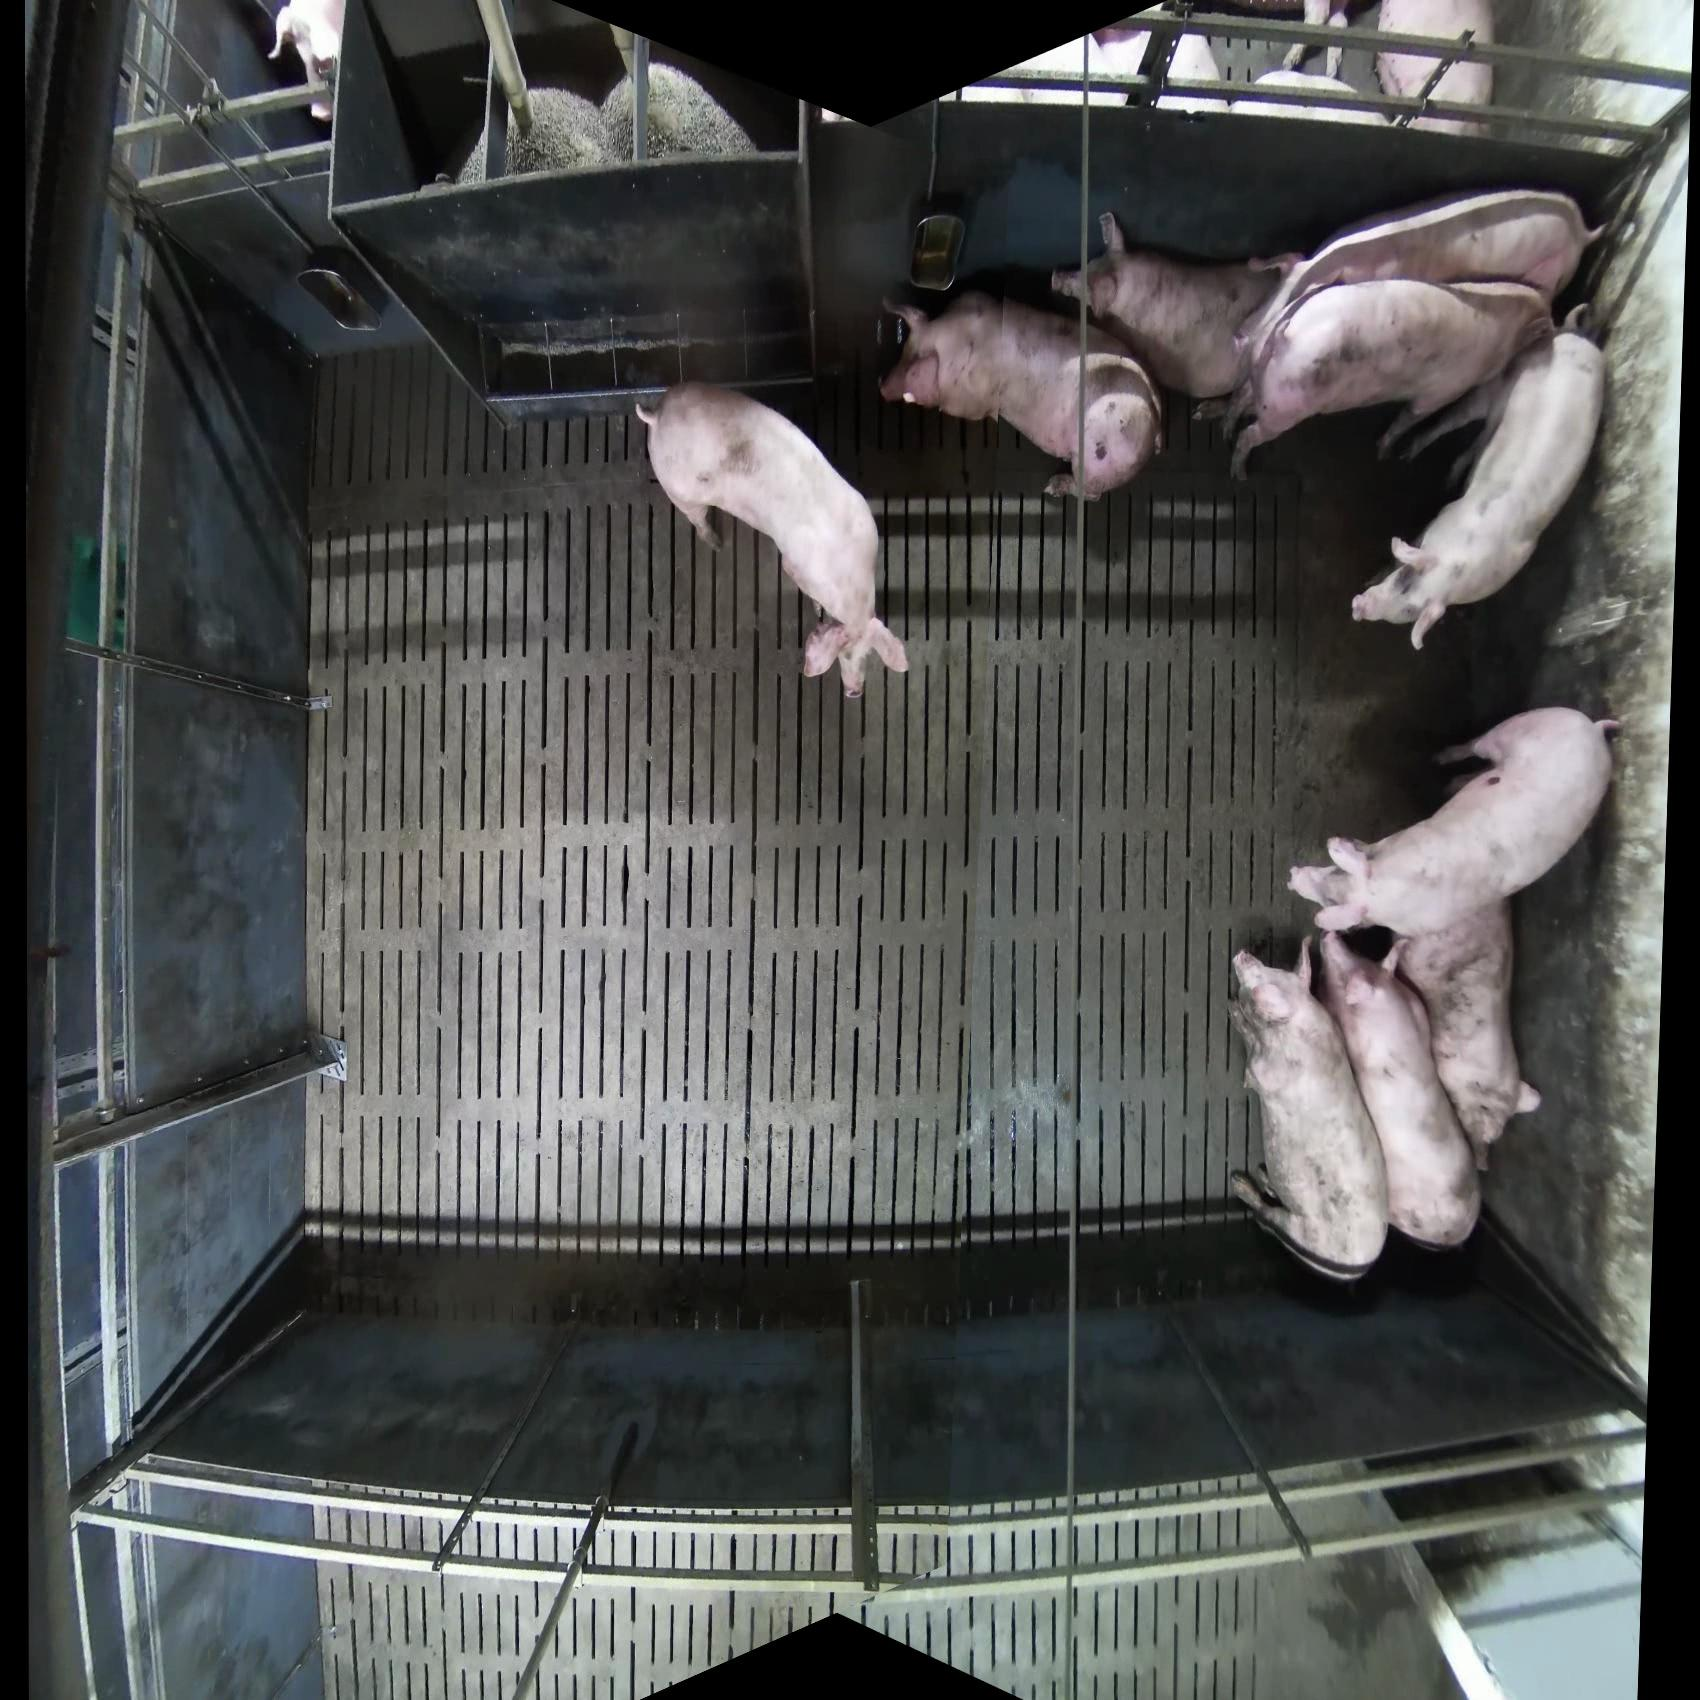pig: (632, 378, 911, 702), (1350, 324, 1610, 652), (1287, 704, 1625, 942), (1236, 185, 1608, 392), (1224, 277, 1557, 486), (876, 290, 1166, 503), (1225, 934, 1392, 1283), (1315, 926, 1484, 1252), (1049, 209, 1306, 408), (1393, 895, 1543, 1172), (1291, 185, 1608, 305), (596, 61, 760, 165), (1375, 2, 1498, 137), (1090, 25, 1228, 114), (498, 89, 613, 177), (1281, 2, 1358, 89)
